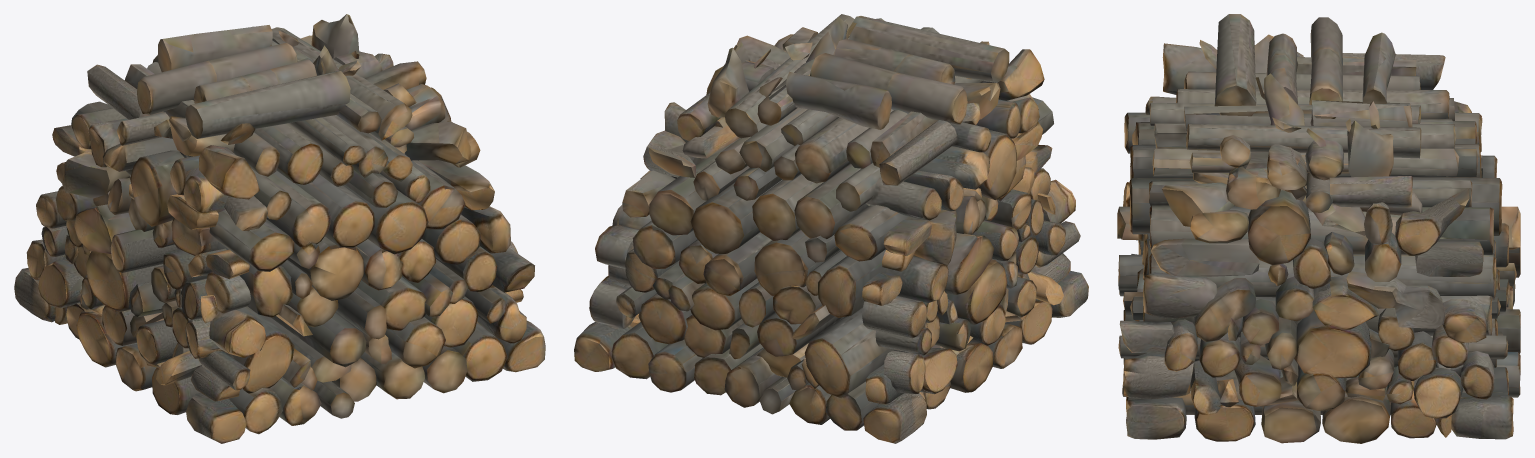
File: resource_firewood_0.glb
3 views of the same model, side by side, from view 1: azimuth 30°, elevation 25°; view 2: azimuth 150°, elevation 25°; view 3: azimuth 270°, elevation 25° (orthographic). The views are drawn at different scales.
Visible parts, largest first — view 1: MeshyGear_resource_firewood; view 2: MeshyGear_resource_firewood; view 3: MeshyGear_resource_firewood.
Part boxes in pixels (<box>): MeshyGear_resource_firewood: <box>14,14,545,443</box>; MeshyGear_resource_firewood: <box>574,14,1088,443</box>; MeshyGear_resource_firewood: <box>1117,14,1520,443</box>.
Size of what is drawn, in the model's own units: 1.6 by 1.31 by 1.6.
Materials: 1 (1 with a texture image).
